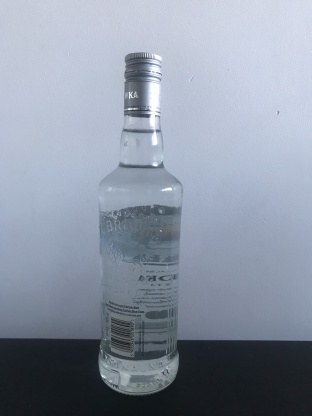nakretka: (122, 49, 163, 121)
